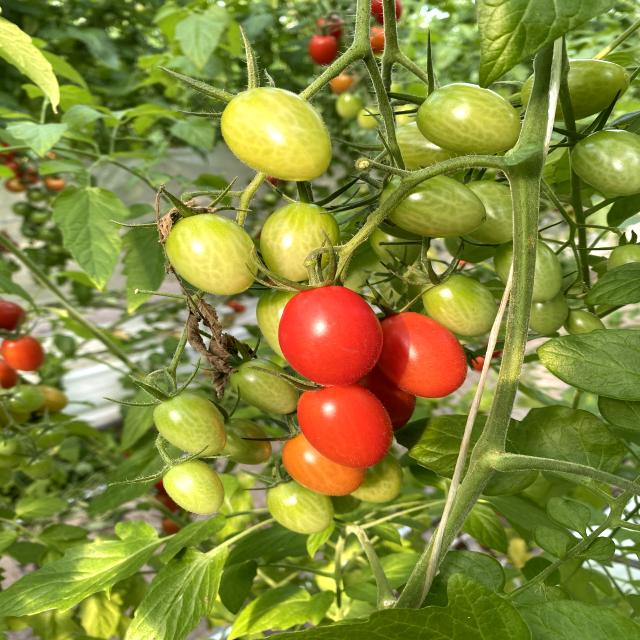ripe0: (220, 86, 332, 182), (163, 213, 258, 297), (417, 82, 521, 157), (261, 202, 340, 281), (154, 395, 230, 457), (162, 459, 225, 516)
ripe2: (277, 286, 384, 387), (294, 387, 394, 467), (380, 319, 466, 397)
